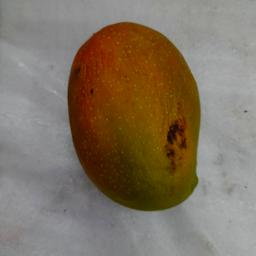Mango Unripe: (33, 0, 256, 245)
